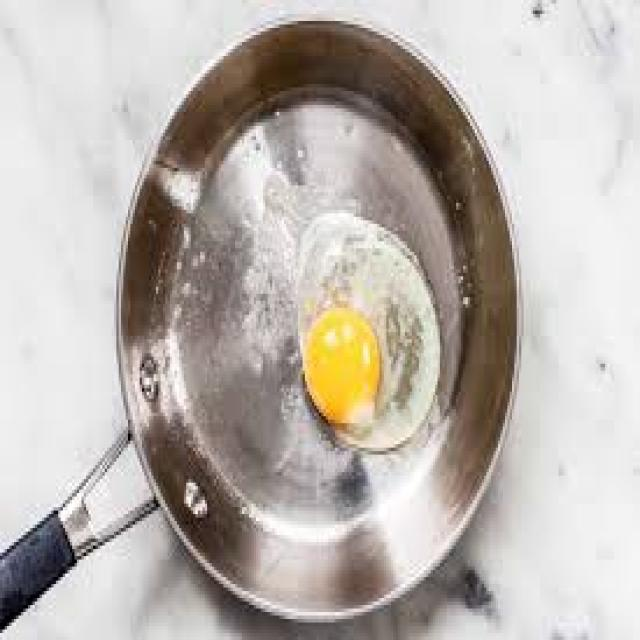Egg: (297, 212, 440, 450)
